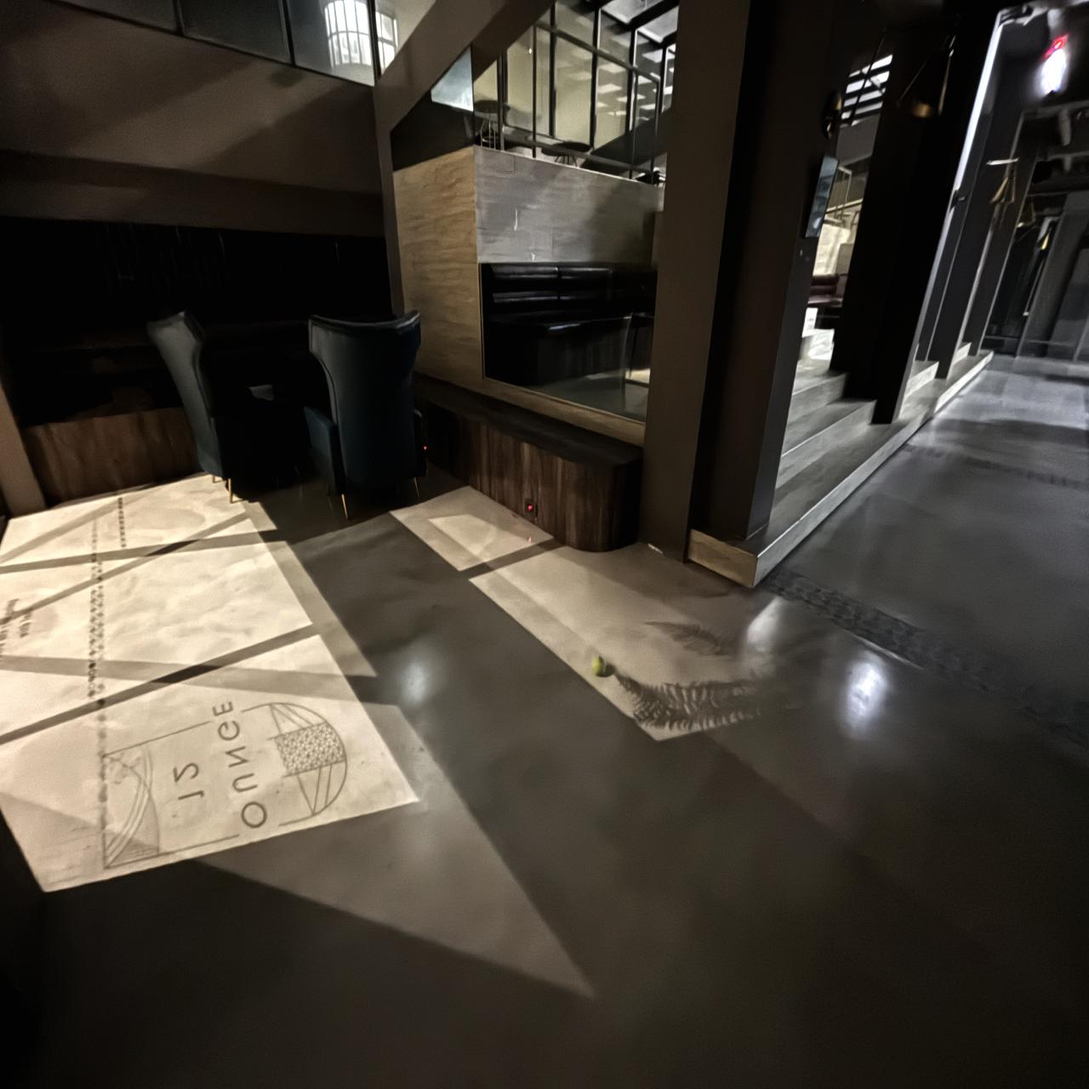tennisball: (591, 656, 607, 676)
